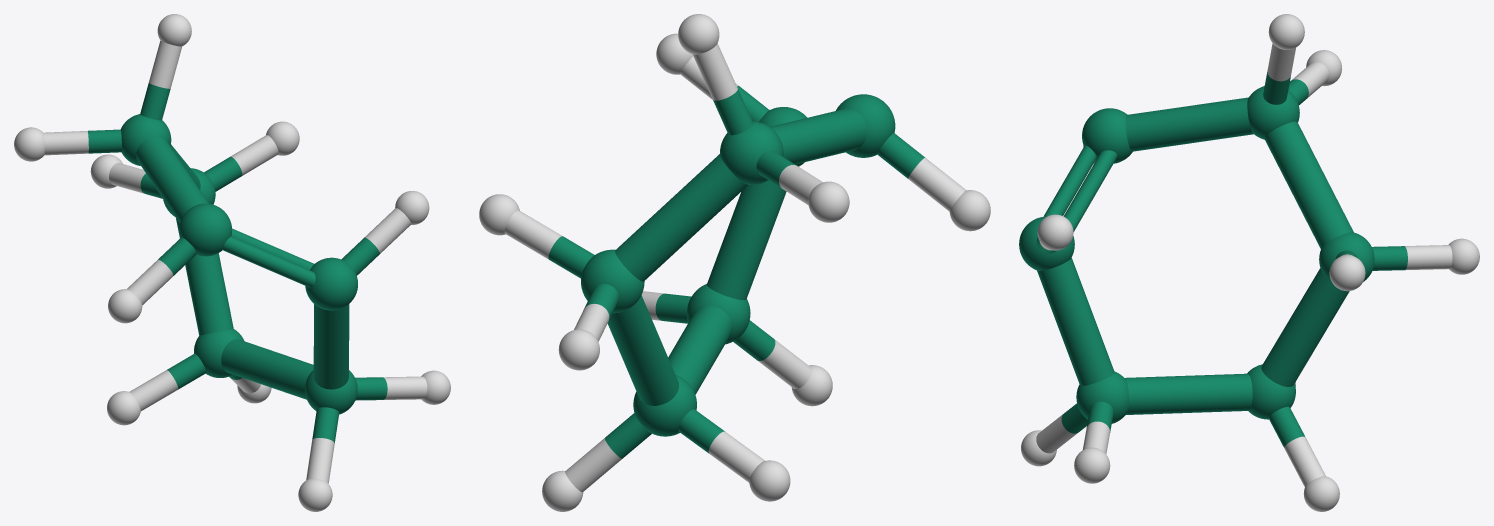
File: TRANSCYCLOHEXENE.MOL2.glb
The picture shows the model from 3 angles, left to right: view 1: azimuth 30°, elevation 25°; view 2: azimuth 150°, elevation 25°; view 3: azimuth 270°, elevation 25°; orthographic projection. The views are drawn at different scales.
Bounding box in the file's own units: 3.71 × 4.48 × 4.21.
